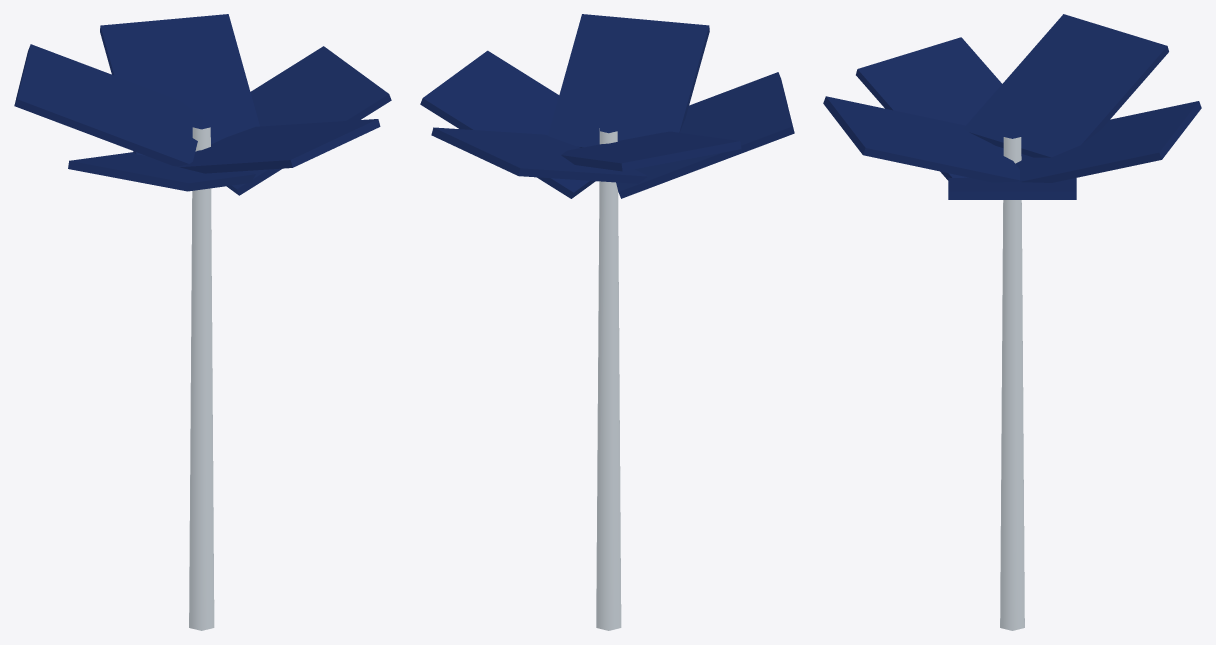
The model's file is prop_solar_tree.glb.
The picture shows the model from 3 angles, left to right: view 1: azimuth 30°, elevation 25°; view 2: azimuth 150°, elevation 25°; view 3: azimuth 270°, elevation 25°; orthographic projection.
Parts seen in each view (by area): view 1: prop_solar_tree_LOD0; view 2: prop_solar_tree_LOD0; view 3: prop_solar_tree_LOD0.
Part boxes in pixels (x1=…): prop_solar_tree_LOD0: x1=14, y1=14, x2=391, y2=630; prop_solar_tree_LOD0: x1=420, y1=14, x2=794, y2=630; prop_solar_tree_LOD0: x1=823, y1=14, x2=1201, y2=630.
Size of what is drawn, in the model's own units: 3.53 by 5.78 by 3.71.
Materials: 1 (1 with a texture image).
